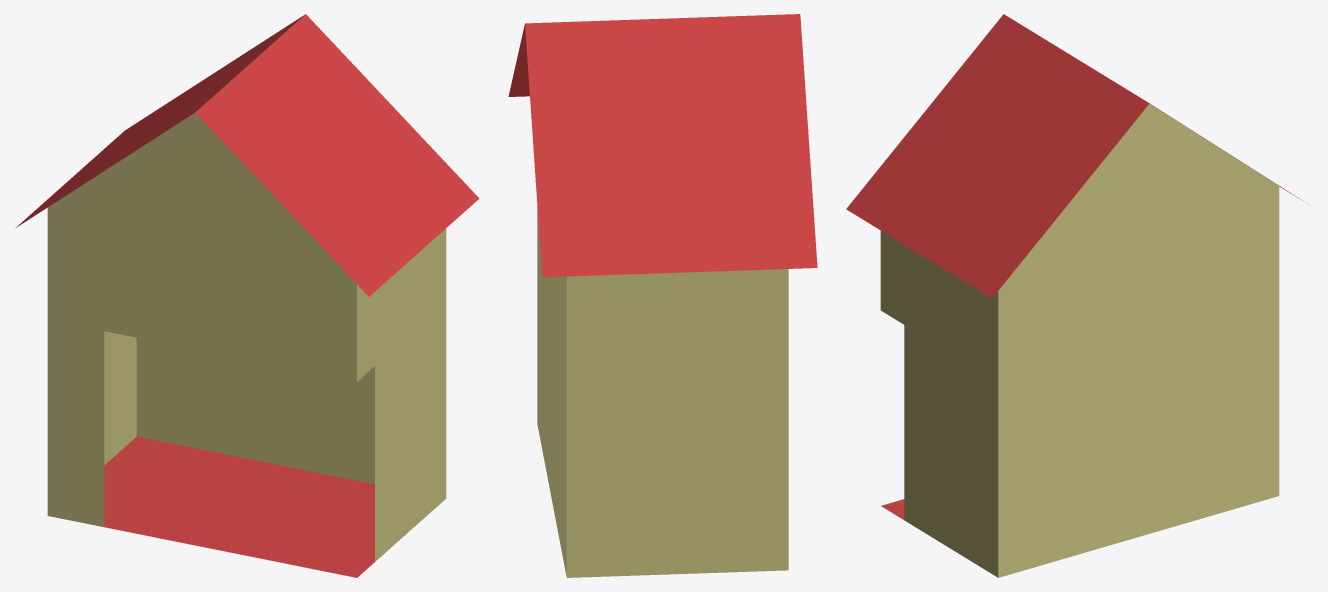
3 renders of one model, left to right at view 1: azimuth 30°, elevation 25°; view 2: azimuth 150°, elevation 25°; view 3: azimuth 270°, elevation 25°, orthographic. The views are drawn at different scales.
Size of the model in its own units: 13.07 by 14.1 by 14.73.
